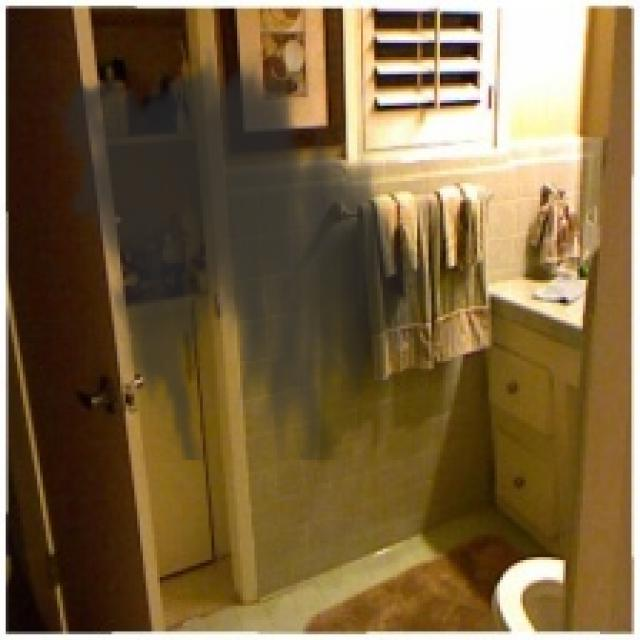smoke: (40, 40, 440, 460)
